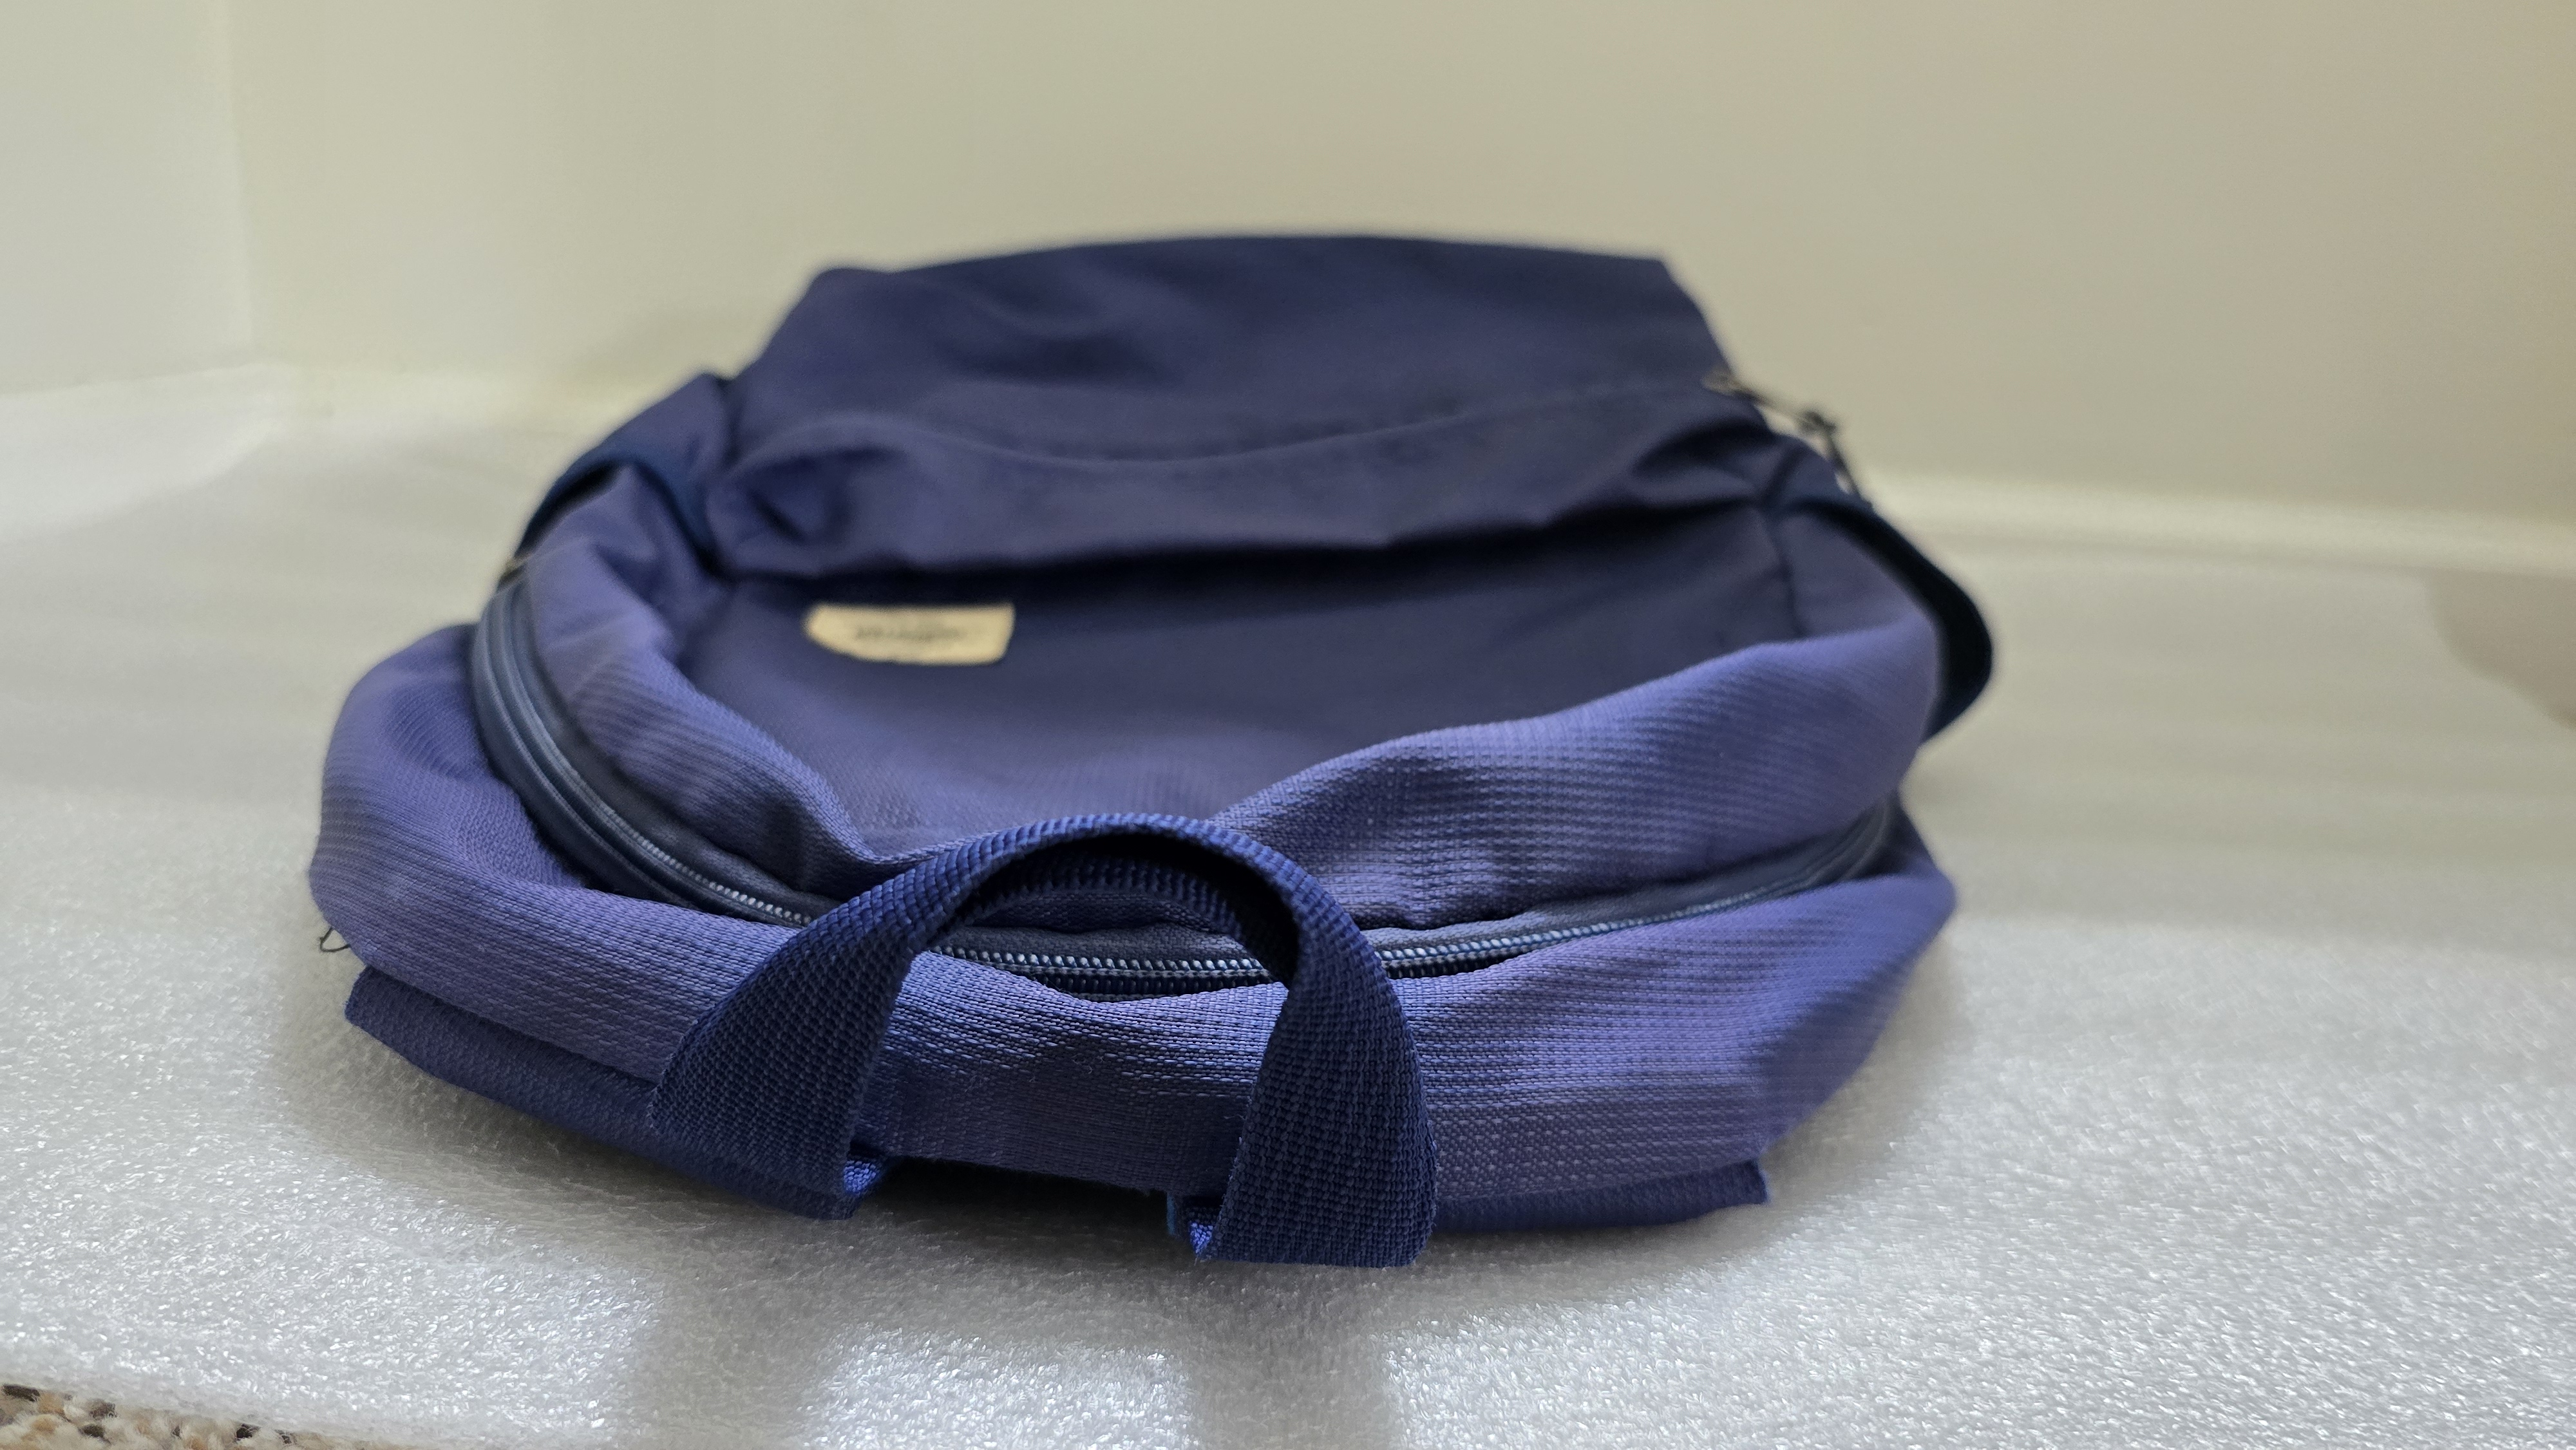bag: (313, 170, 2118, 1287)
